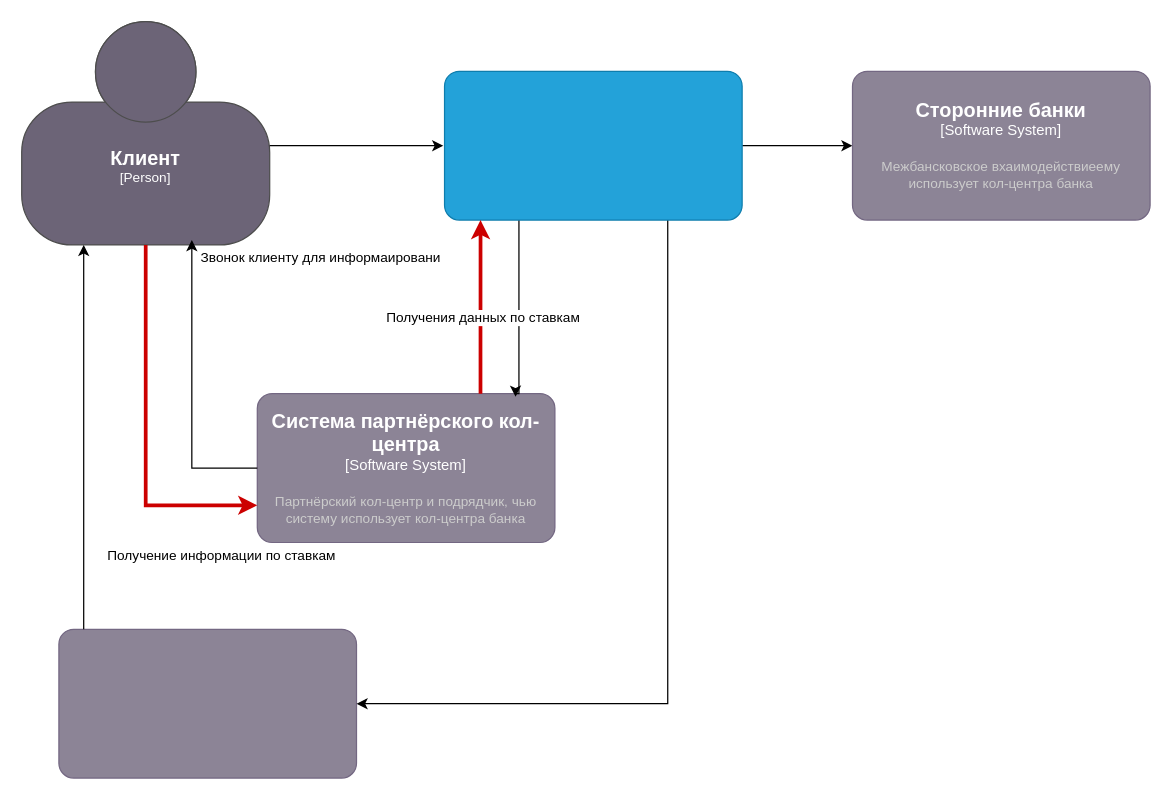
This 1172x800 diagram has some shape labels left out. Here are the shapes that lost their labels. From the top down, the box of each, then its label:
(443, 70, 742, 220): Bank [Software System: ] Банк предоставляет услуги открытия депозитов
(58, 628, 356, 778): Телеком-оператор [Software System] Оператор по отправке СМС
